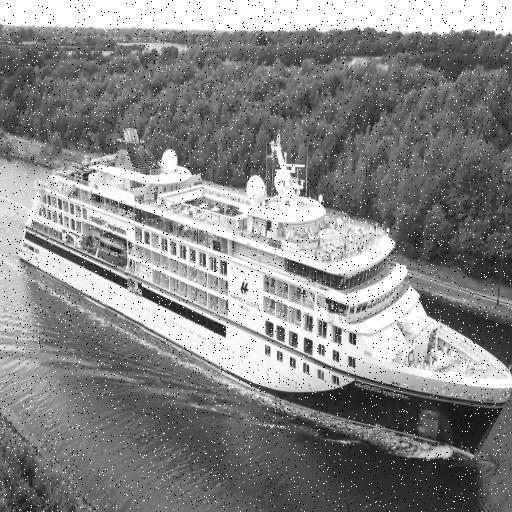cruises: (17, 125, 512, 468)
